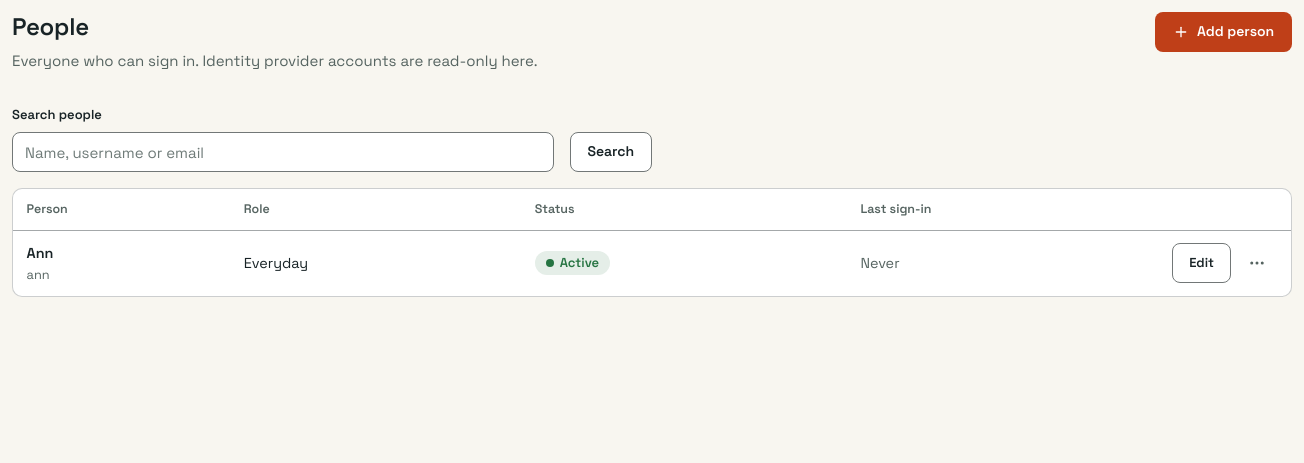
Test case: People › asks for a fresh sign-in when a reset needs step-up
Click the button named "More actions for ann" at x=1257, y=264, box [1237,244,1277,284]
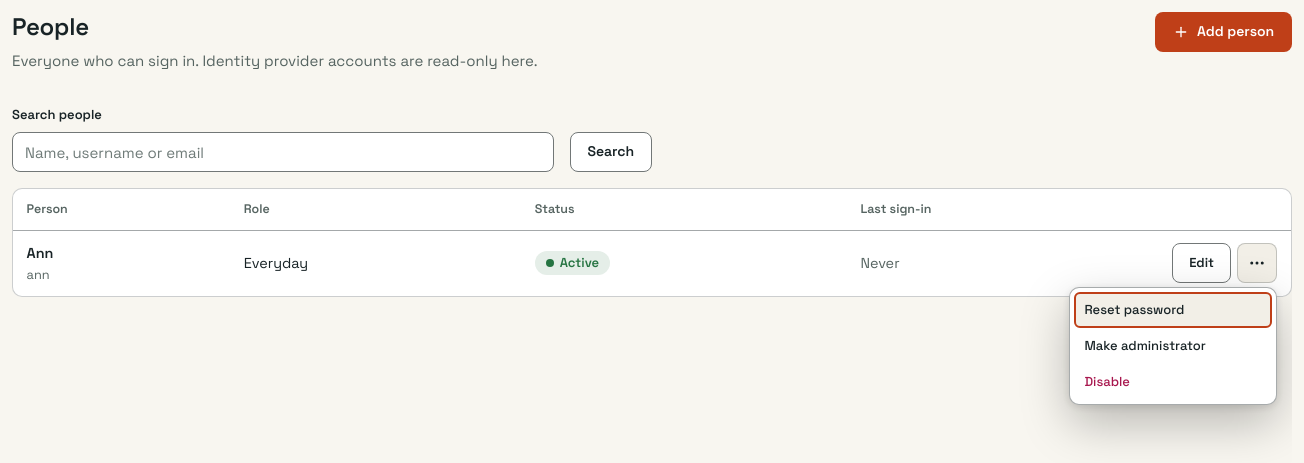
Click the menu item with aria-label "Reset password for ann" at x=1173, y=310, box [1074,292,1272,328]
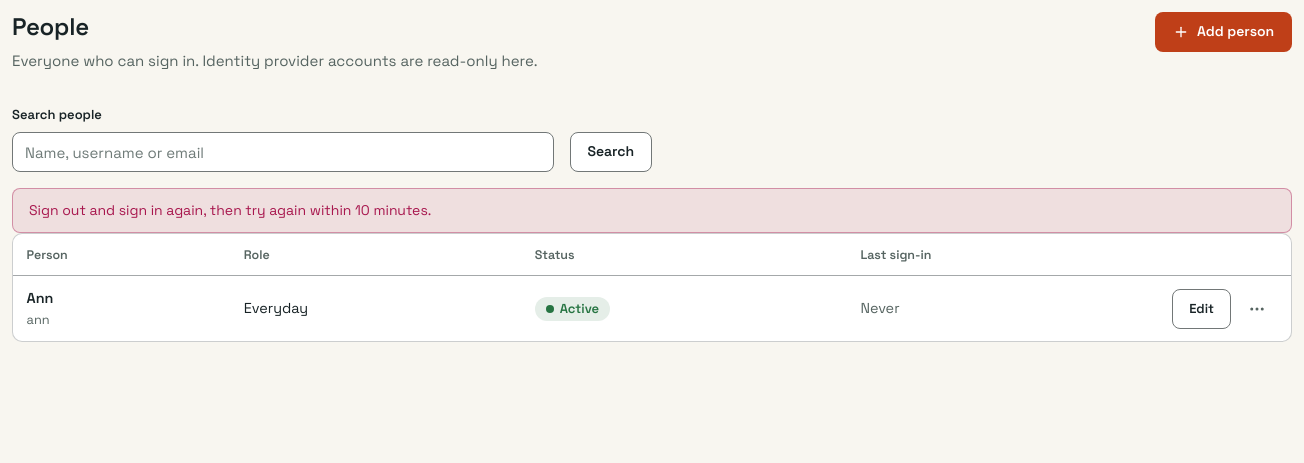
Now the message shows "sign in again", box [29,201,431,219]
